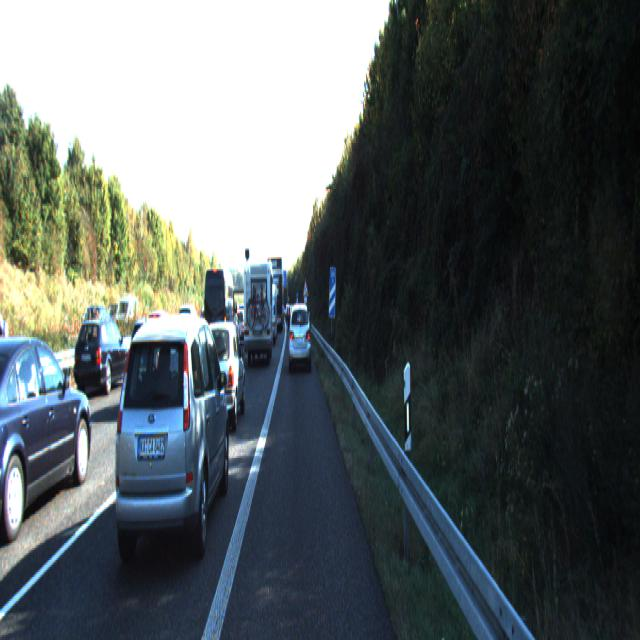Car: (105, 312, 232, 586), (0, 328, 96, 552), (118, 316, 180, 418), (196, 318, 246, 432), (72, 314, 132, 396), (0, 275, 27, 455), (201, 268, 235, 369), (244, 259, 273, 364), (288, 300, 312, 370), (267, 258, 282, 333)
